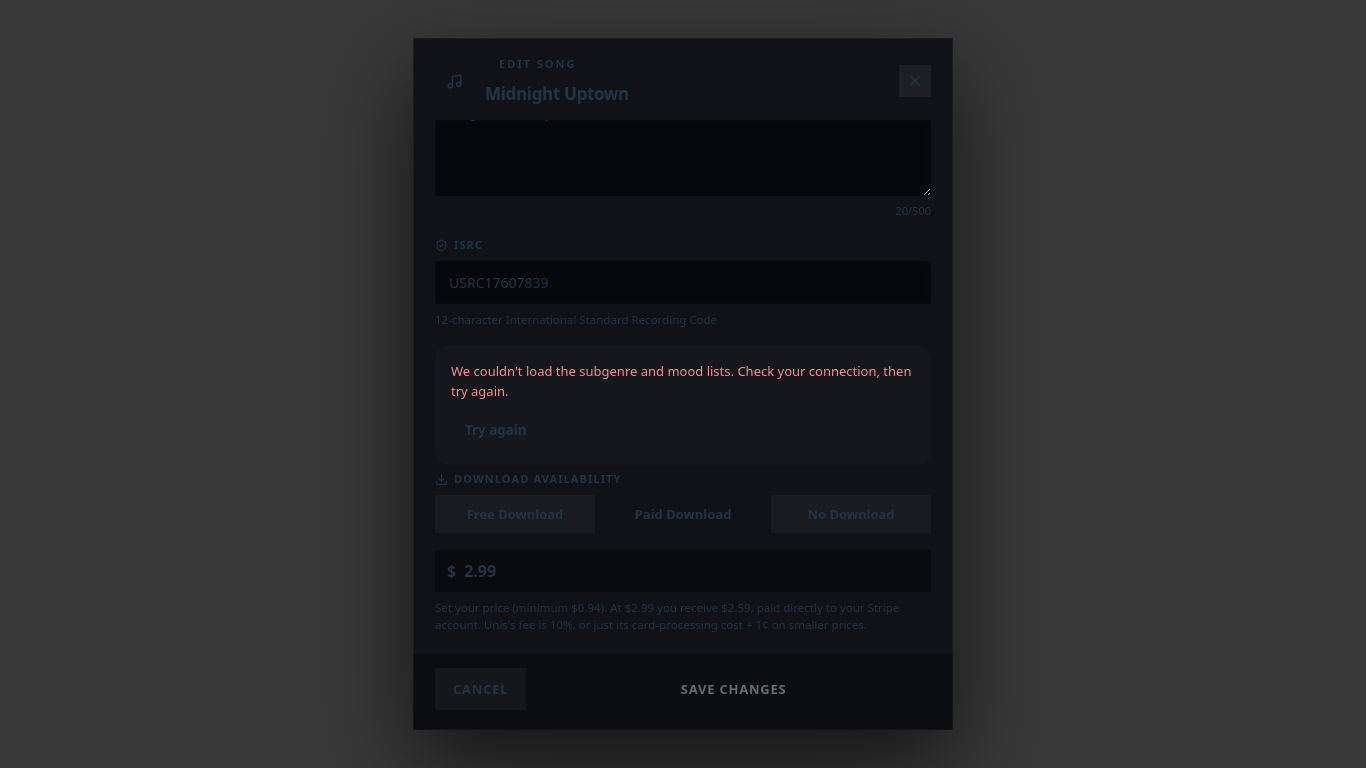
Test: EditSongWizard — download policy › switching to No Download hides the price input
The image size is (1366, 768).
(page scrolled)
Click the button "No Download".
click(851, 514)  # box [771,495,931,533]
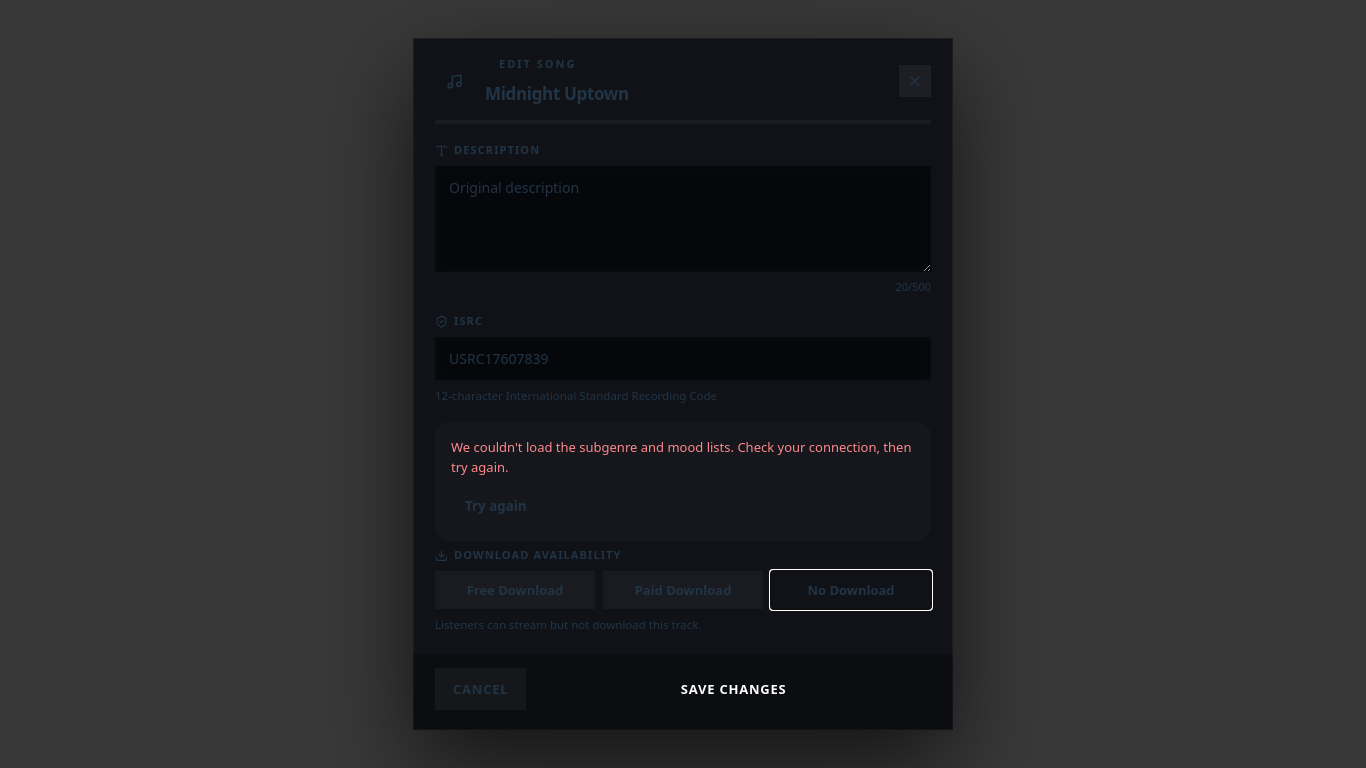
Now the text with placeholder "0.94" is gone
